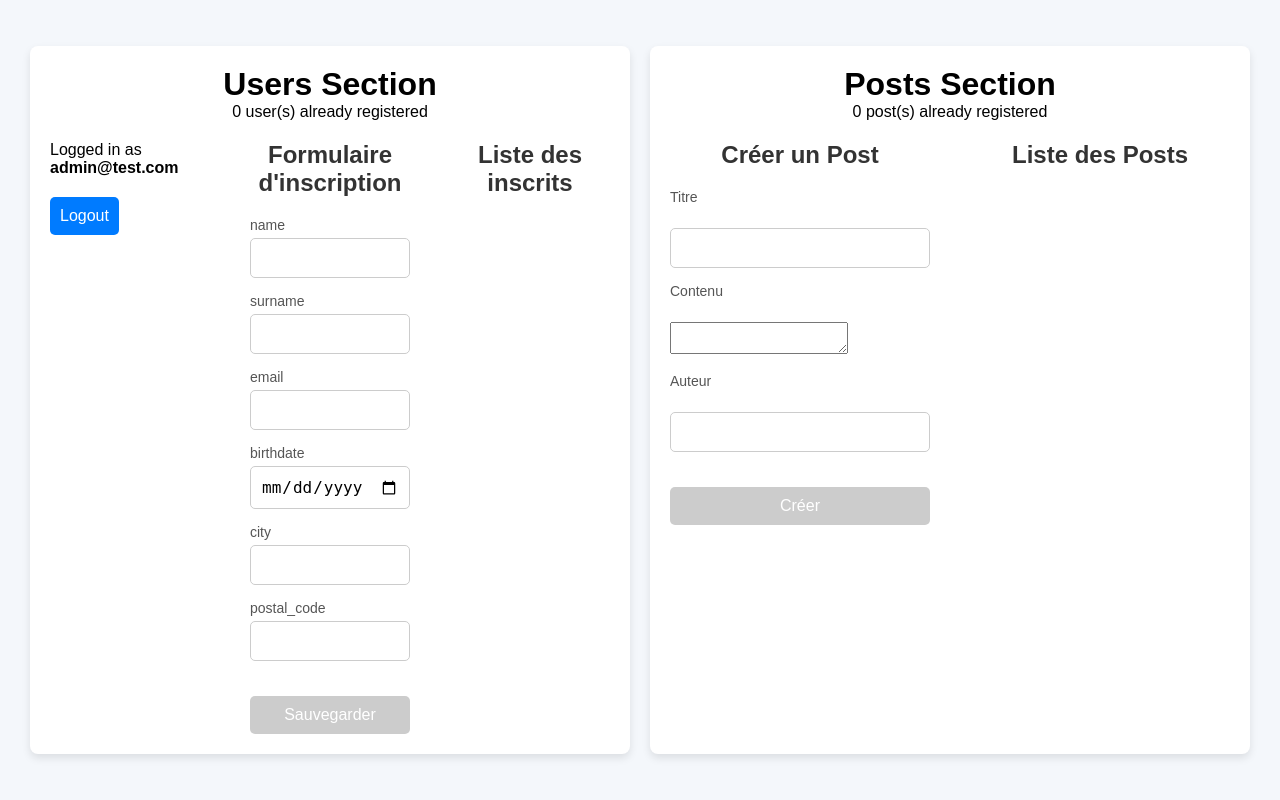
Test: App Component › rafraîchit la liste des users après ajout
Type "John" into the field labelled "name".
click(330, 258); type("John")  # box top-left (250, 238), bottom-right (410, 278)
Type "Smith" into the field labelled "surname".
click(330, 334); type("Smith")  # box top-left (250, 314), bottom-right (410, 354)
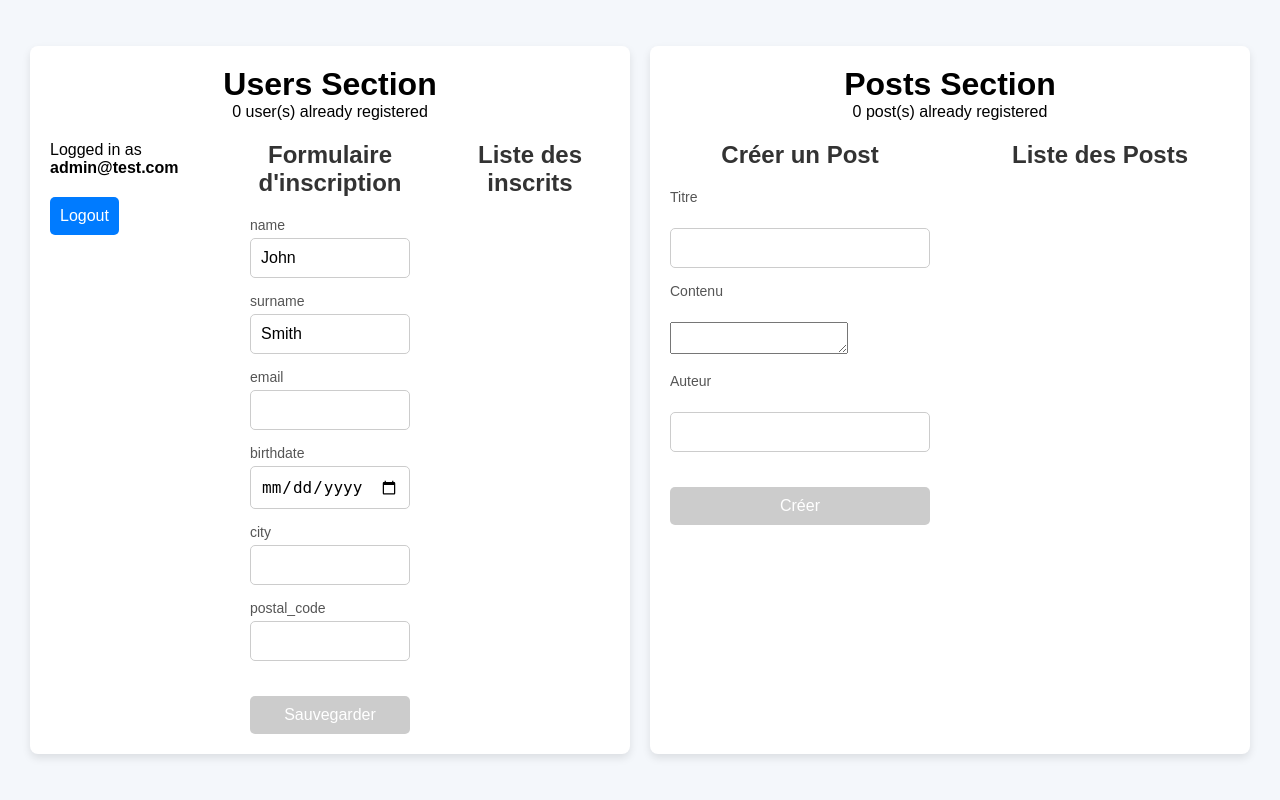
Type "john.smith@example.com" into the field labelled "email".
click(330, 410); type("john.smith@example.com")  # box top-left (250, 390), bottom-right (410, 430)
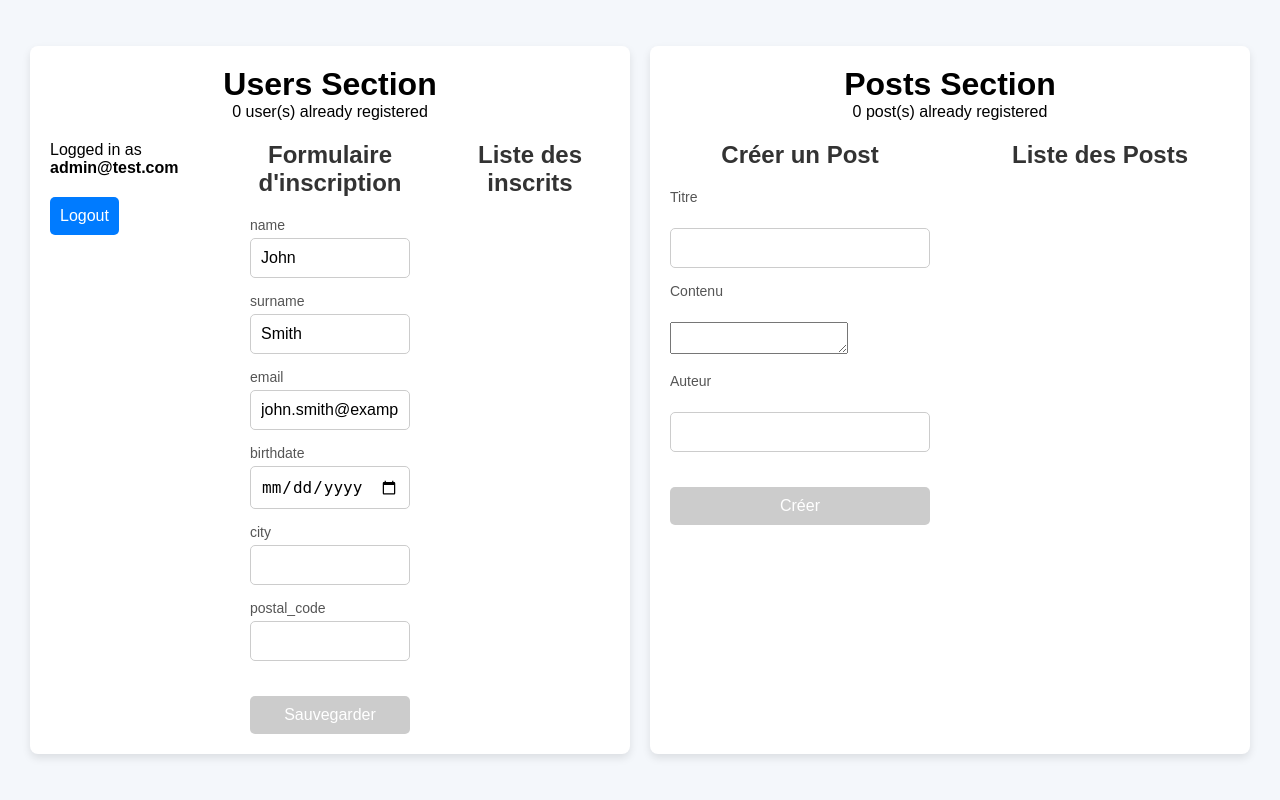
Type "2000-01-01" into the date field labelled "birthdate".
click(330, 488); type("2000-01-01")  # box top-left (250, 466), bottom-right (410, 509)
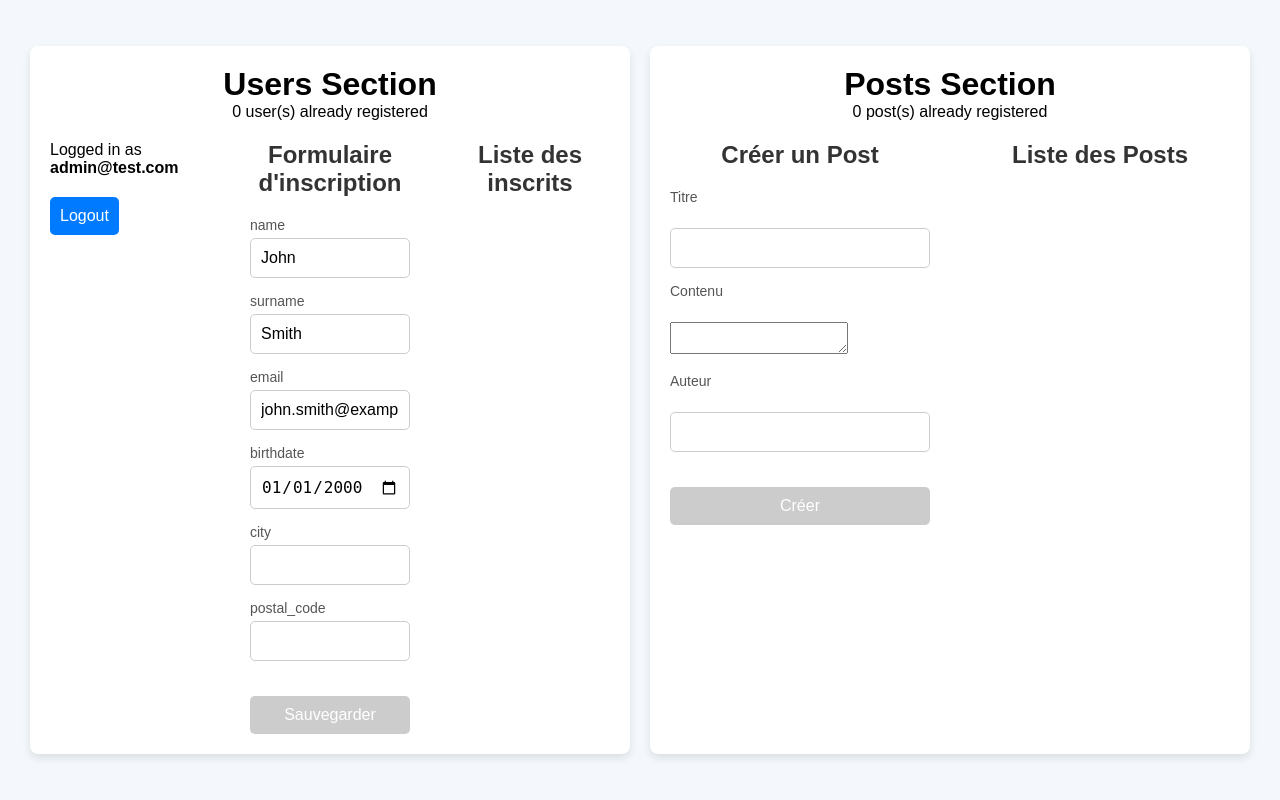
Type "Paris" into the field labelled "city".
click(330, 565); type("Paris")  # box top-left (250, 545), bottom-right (410, 585)
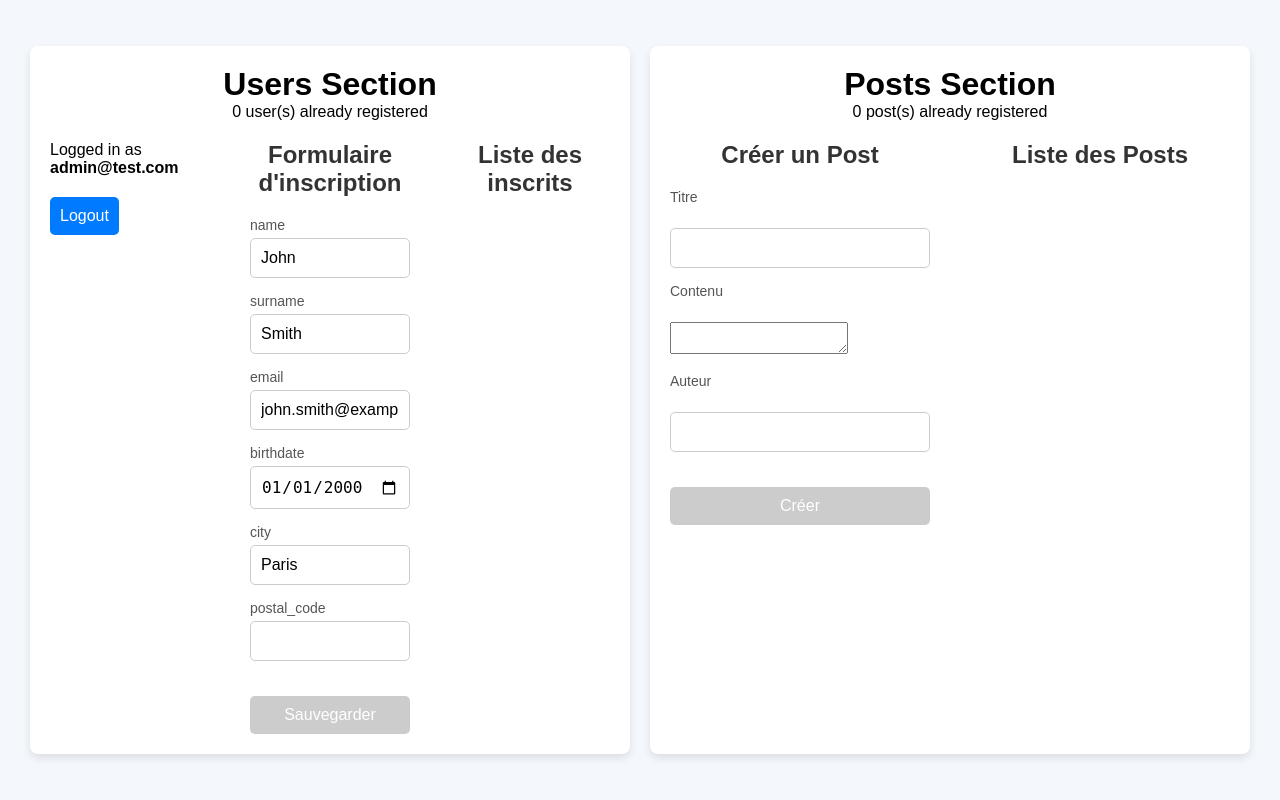
Type "75000" into the field labelled "postal_code".
click(330, 641); type("75000")  # box top-left (250, 621), bottom-right (410, 661)
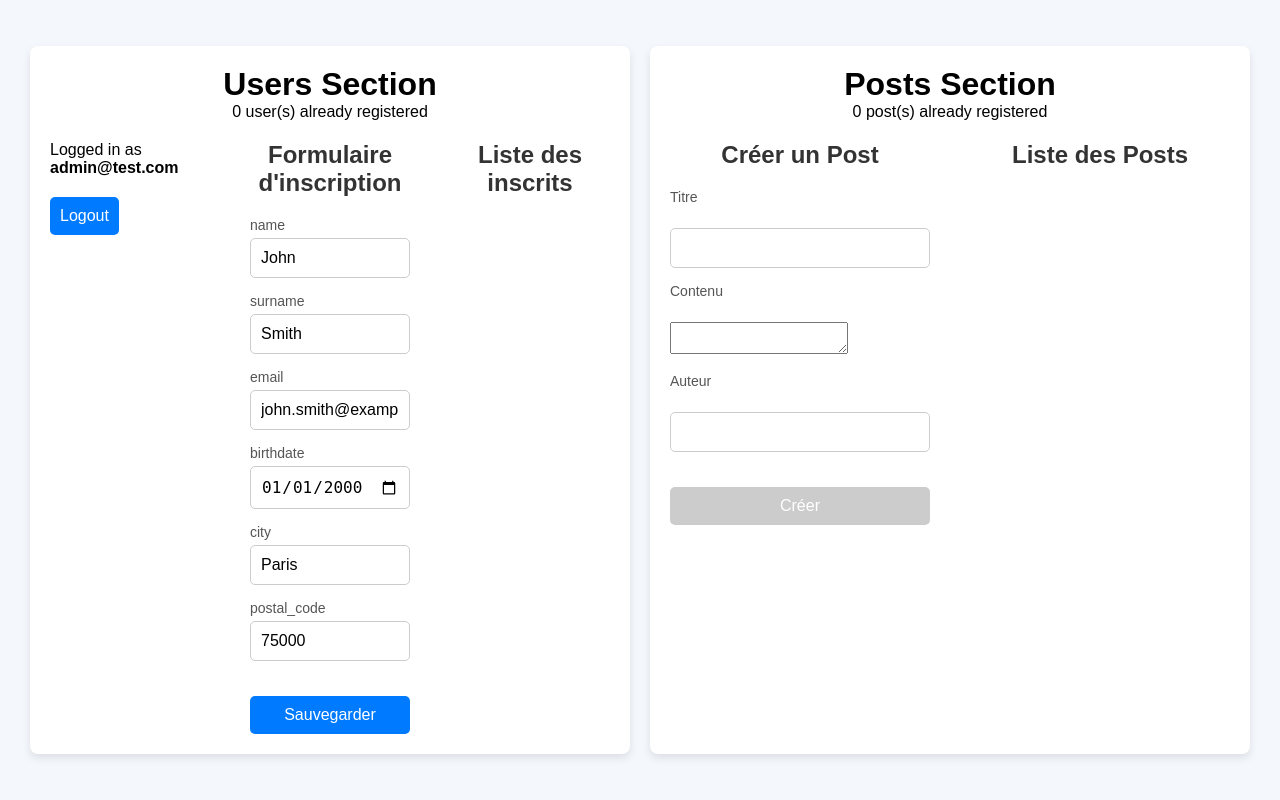
Submit the form from the button "Sauvegarder", box top-left (250, 696), bottom-right (410, 734)
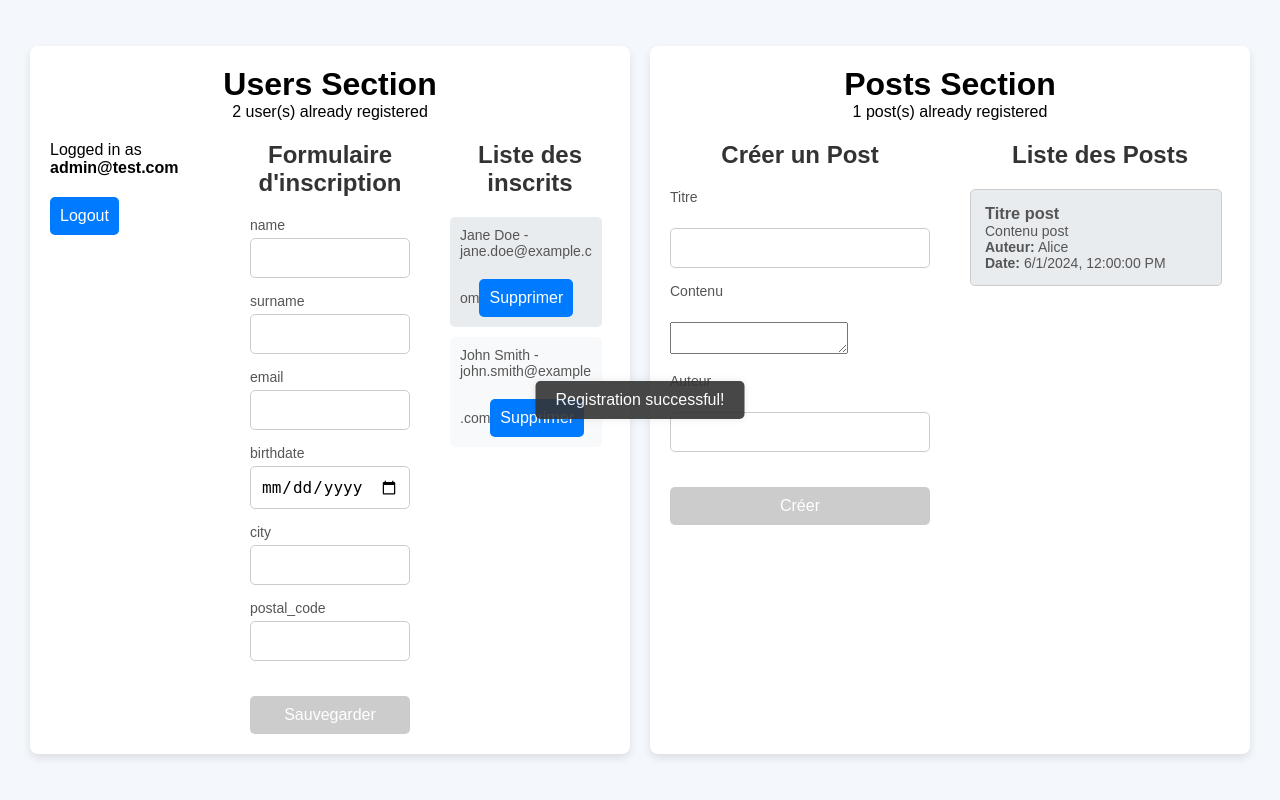
Expected: the list item "John Smith - john.smith@example.com Supprimer" is shown, top-left (450, 337), bottom-right (602, 447)
Expected: the text "2 user(s) already registered" is shown, top-left (232, 103), bottom-right (428, 121)
